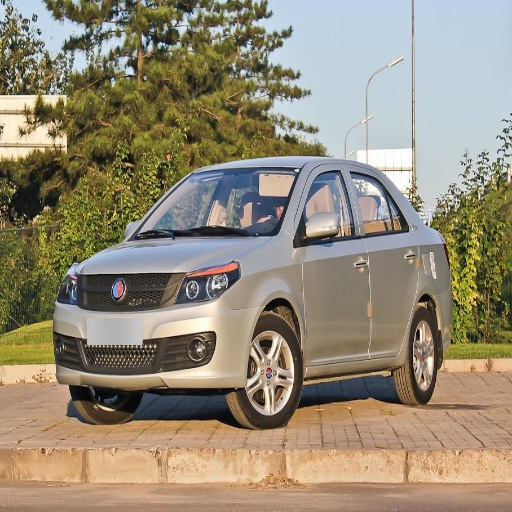front_bumper: (55, 272, 260, 390)
front_glass: (131, 168, 300, 239)
front_left_door: (296, 166, 369, 367)
